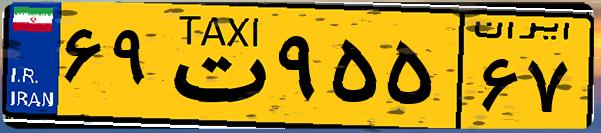5: (385, 28, 445, 110), (330, 28, 385, 110)
6: (57, 26, 110, 100), (475, 38, 525, 113)
7: (525, 38, 570, 115)
9: (270, 28, 330, 110), (110, 28, 158, 98)
ت: (158, 12, 270, 120)
